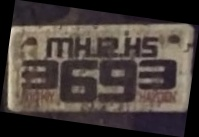character: (59, 58, 98, 103), (98, 59, 136, 102), (136, 59, 176, 90), (46, 36, 73, 57), (73, 36, 90, 58), (123, 36, 141, 56), (141, 36, 158, 56)
